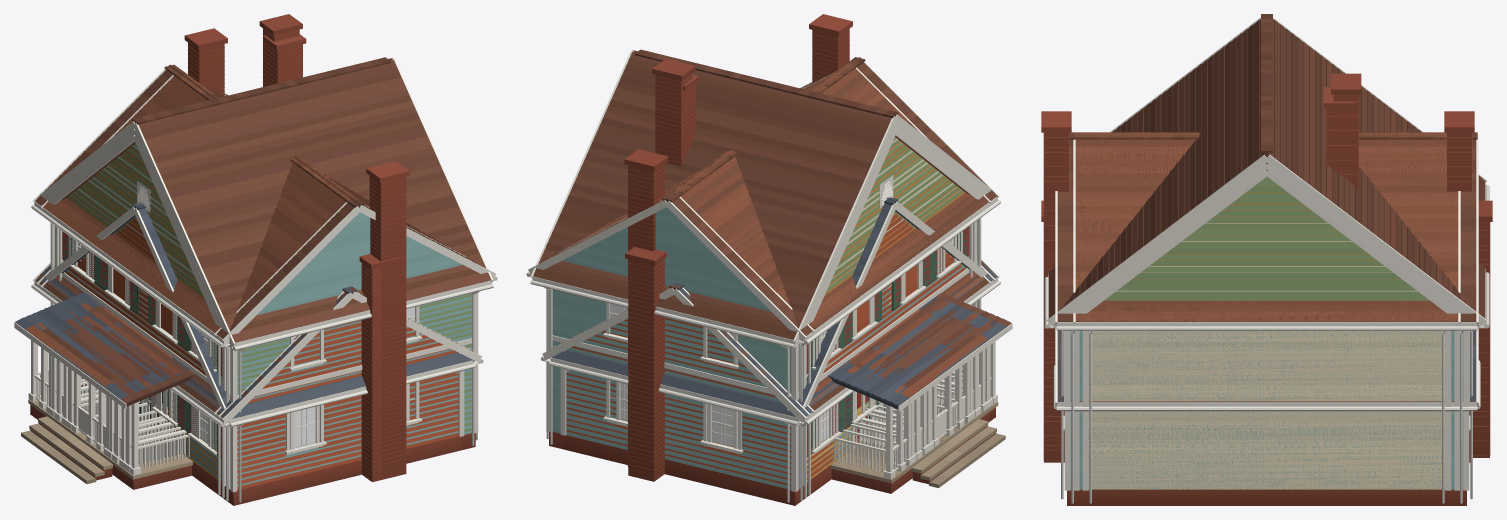
File: housesLod.glb
The picture shows the model from 3 angles, left to right: view 1: azimuth 30°, elevation 25°; view 2: azimuth 150°, elevation 25°; view 3: azimuth 270°, elevation 25°; orthographic projection. The views are drawn at different scales.
Parts seen in each view (by area): view 1: house4, house11, house1, house2, house8, house3, house0, house9, house6, house5, house10, house7; view 2: house4, house11, house8, house1, house2, house3, house9, house0, house5, house6, house10, house7; view 3: house2, house4, house11, house0, house9, house8, house5, house1, house6, house10.
Boxes of the visible parts, x1,y1,x2,y2 form: house4: (32,14,493,505); house11: (31,64,497,500); house1: (14,254,482,500); house2: (39,28,465,494); house8: (33,265,483,505); house3: (44,202,475,488); house0: (44,127,232,489); house9: (35,34,306,467); house6: (39,276,229,481); house5: (24,276,229,494); house10: (35,269,477,498); house7: (61,322,186,485); house4: (530,49,991,505); house11: (526,14,1000,500); house8: (542,246,1000,486); house1: (541,258,1000,505); house2: (558,63,1005,494); house3: (549,197,1007,488); house9: (683,74,987,463); house0: (796,121,1012,488); house5: (807,272,992,494); house6: (662,261,992,477); house10: (546,265,996,497); house7: (872,297,1007,454); house2: (1073,111,1474,505); house4: (1044,14,1489,499); house11: (1041,111,1478,505); house0: (1053,163,1480,490); house9: (1078,87,1455,313); house8: (1055,200,1492,457); house5: (1074,402,1459,411); house1: (1041,200,1478,423); house6: (1074,401,1459,409); house10: (1064,331,1469,412).
Size of the model in its own units: 12.34 by 11.92 by 12.55.
